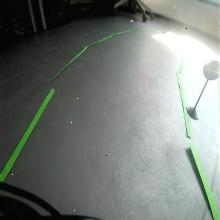left: (203, 58, 220, 81)
